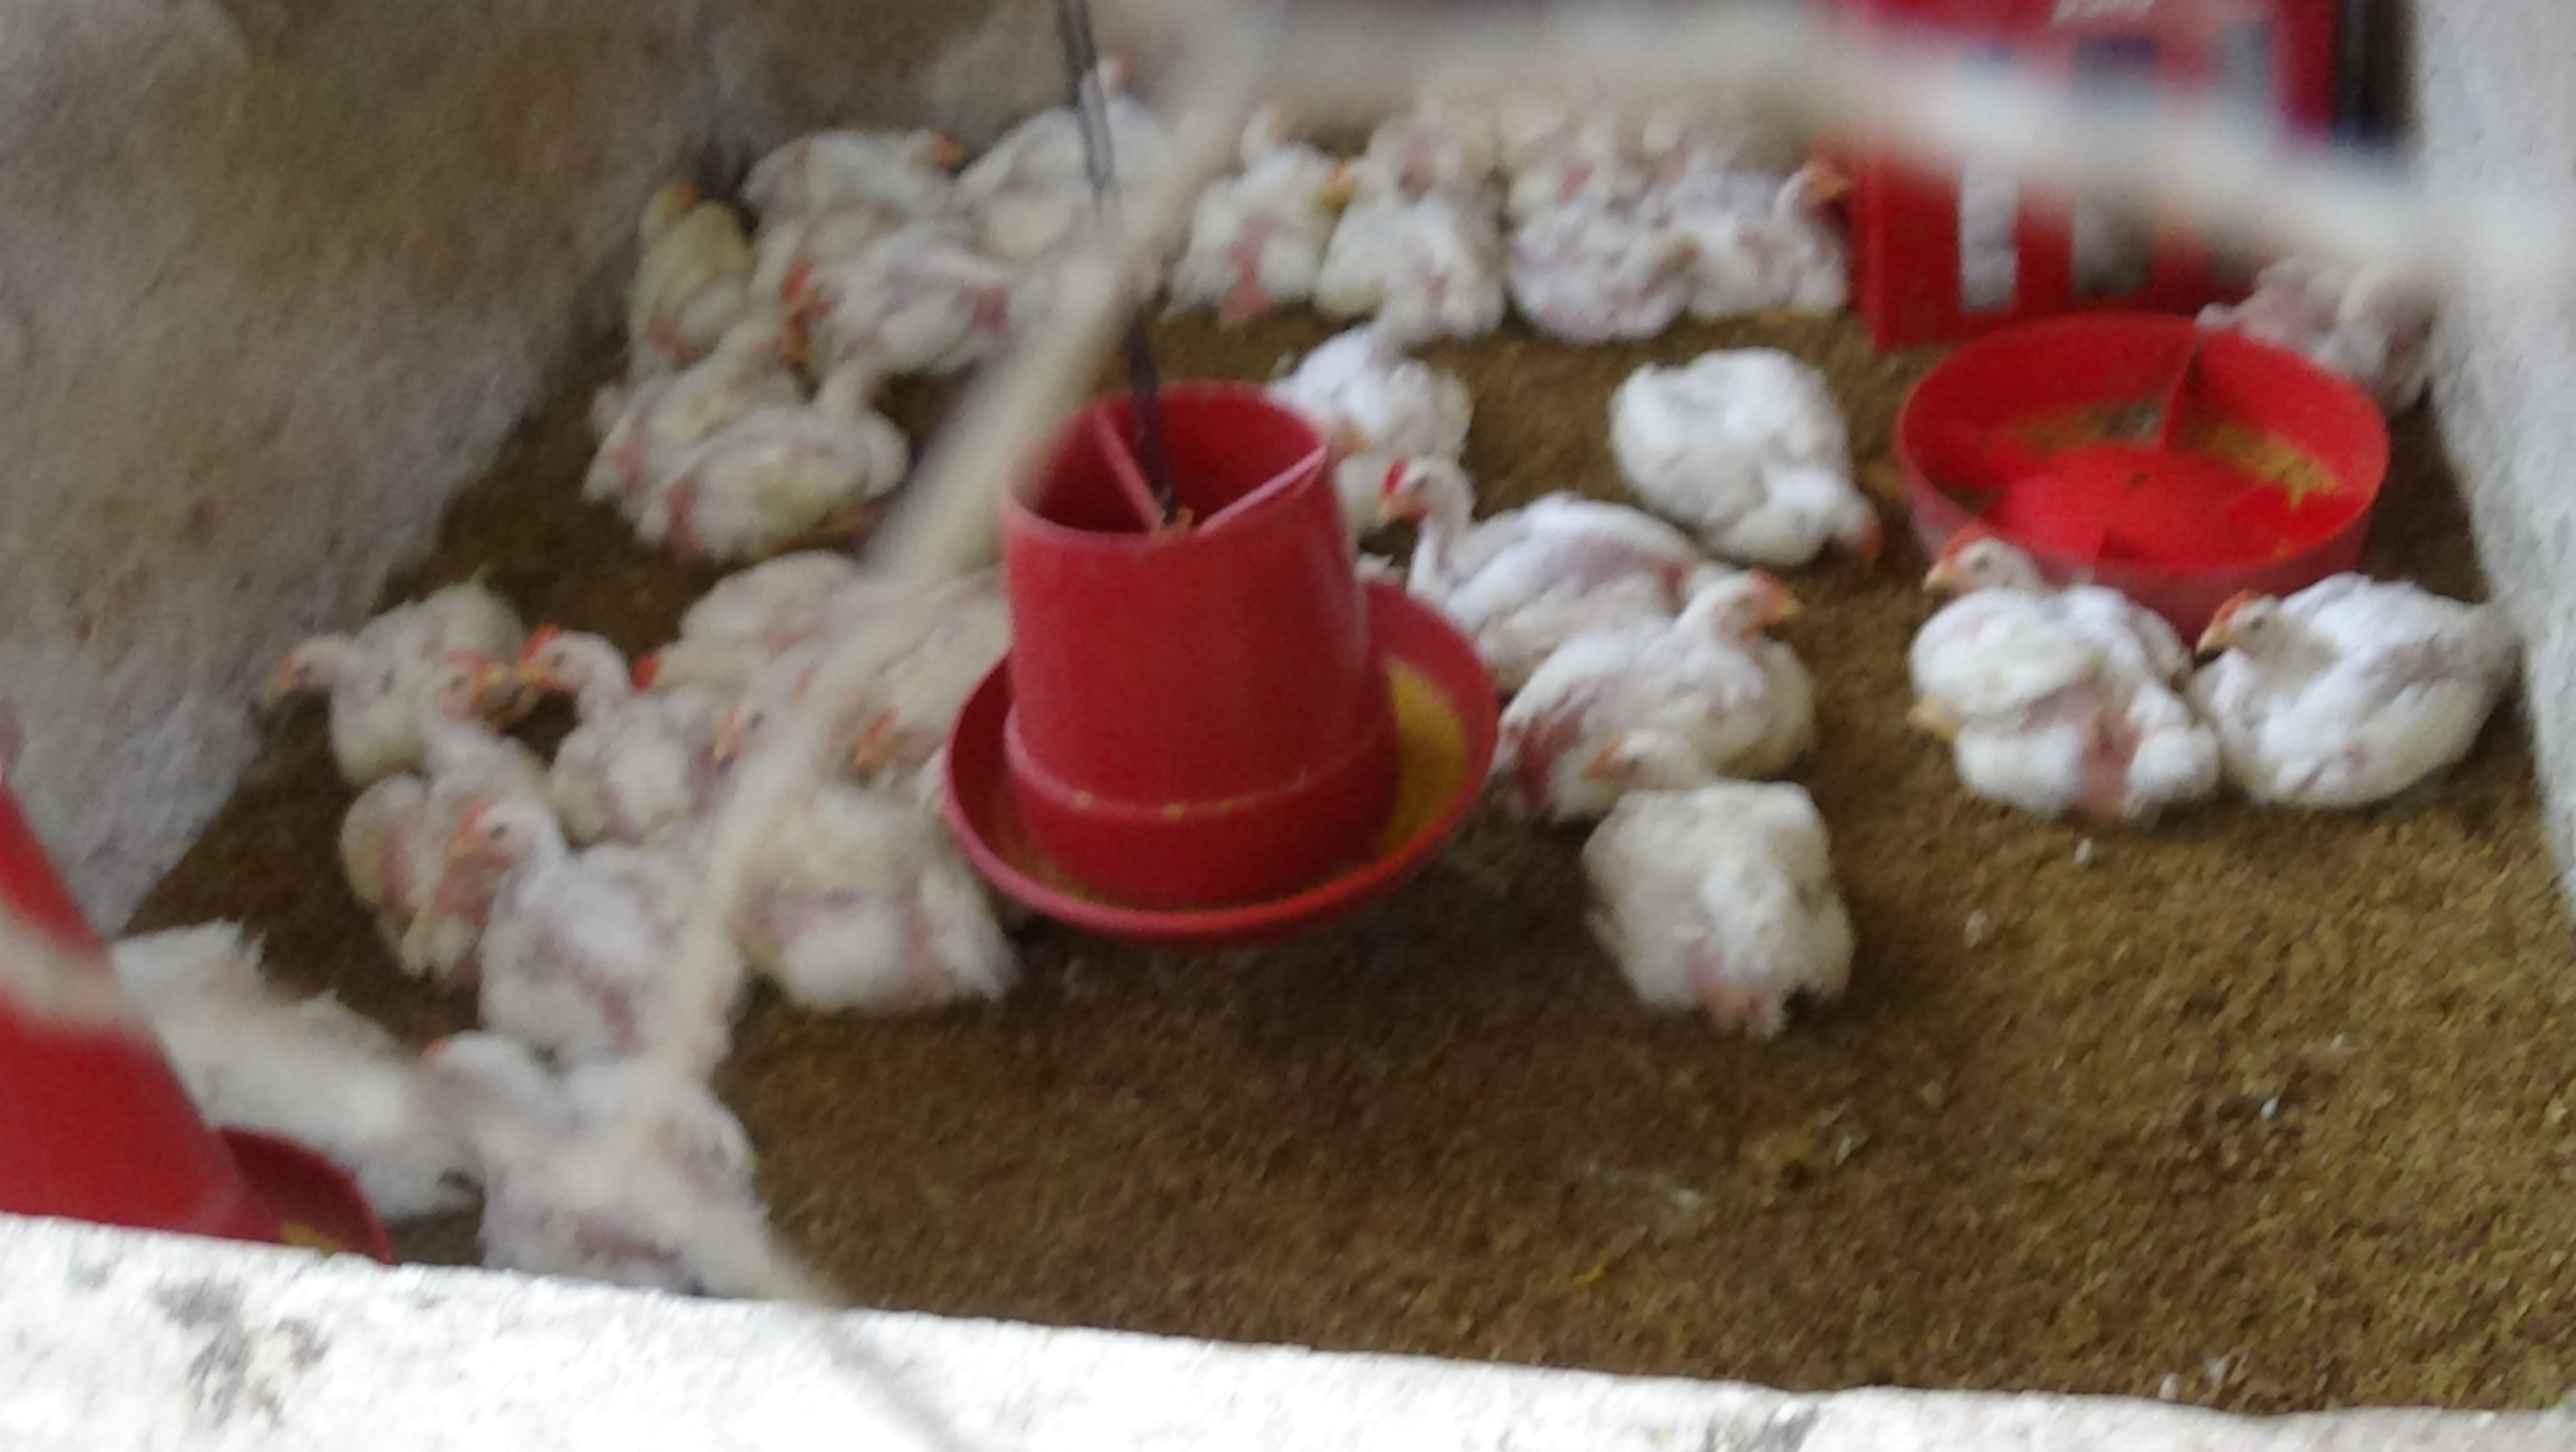Pollos: (1557, 737, 1897, 1027), (1900, 517, 2192, 836), (2199, 554, 2541, 818), (435, 802, 747, 1073), (1619, 361, 1888, 577), (1368, 444, 1576, 646), (1626, 533, 1838, 722), (688, 359, 897, 551), (257, 588, 456, 756), (1718, 117, 1858, 312), (510, 620, 626, 747), (1332, 149, 1433, 280), (1021, 51, 1146, 152), (1233, 90, 1350, 189), (633, 620, 747, 714), (851, 691, 973, 777), (699, 297, 803, 393), (876, 113, 964, 198)
